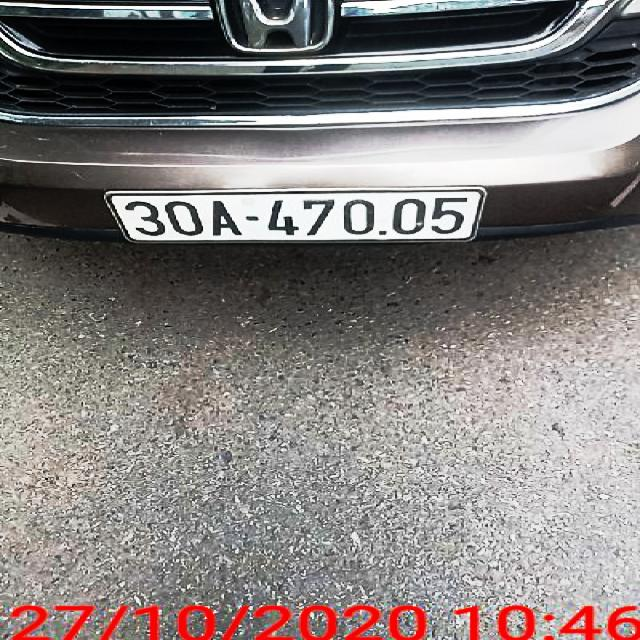license_plate: (108, 184, 483, 242)
